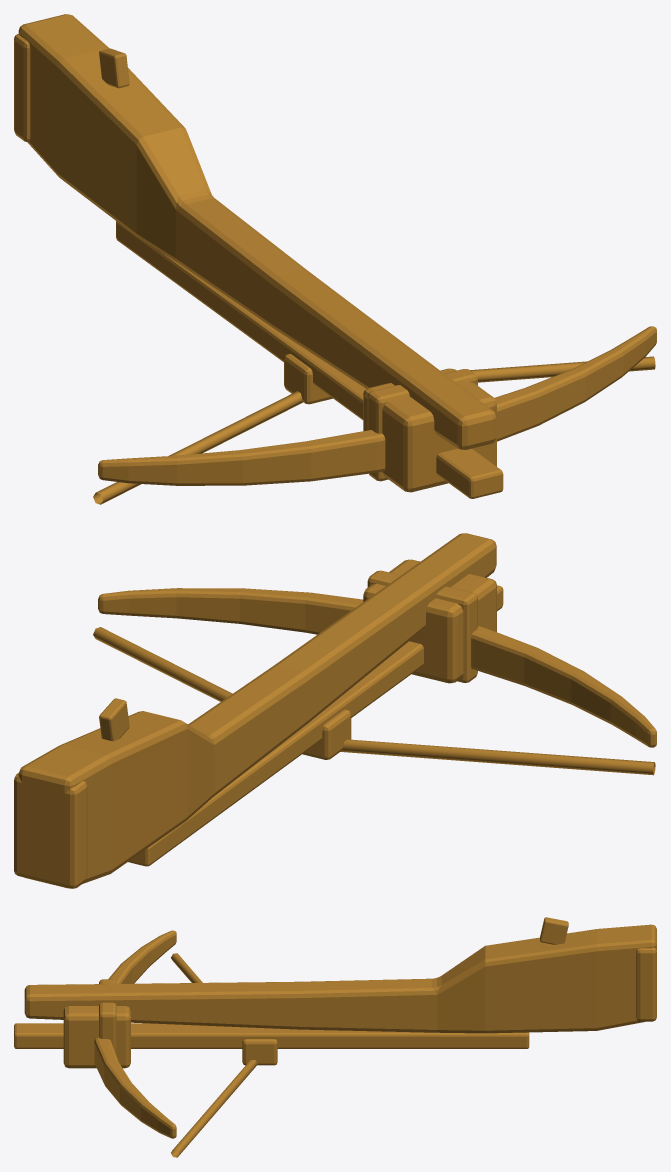
File: AuxiliaReinforcedCrossbowCocked.fbx
The picture shows the model from 3 angles, top to bottom: view 1: azimuth 30°, elevation 25°; view 2: azimuth 150°, elevation 25°; view 3: azimuth 270°, elevation 25°; orthographic projection. The views are drawn at different scales.
Visible parts, largest first — view 1: AuxiliaReinforcedCrossbowCocked_GameExport; view 2: AuxiliaReinforcedCrossbowCocked_GameExport; view 3: AuxiliaReinforcedCrossbowCocked_GameExport.
Boxes of the visible parts, <box> form: AuxiliaReinforcedCrossbowCocked_GameExport: <box>14,14,656,504</box>; AuxiliaReinforcedCrossbowCocked_GameExport: <box>14,533,656,888</box>; AuxiliaReinforcedCrossbowCocked_GameExport: <box>14,917,656,1157</box>.
Bounding box in the file's own units: 26.43 × 36.3 × 8.74.
